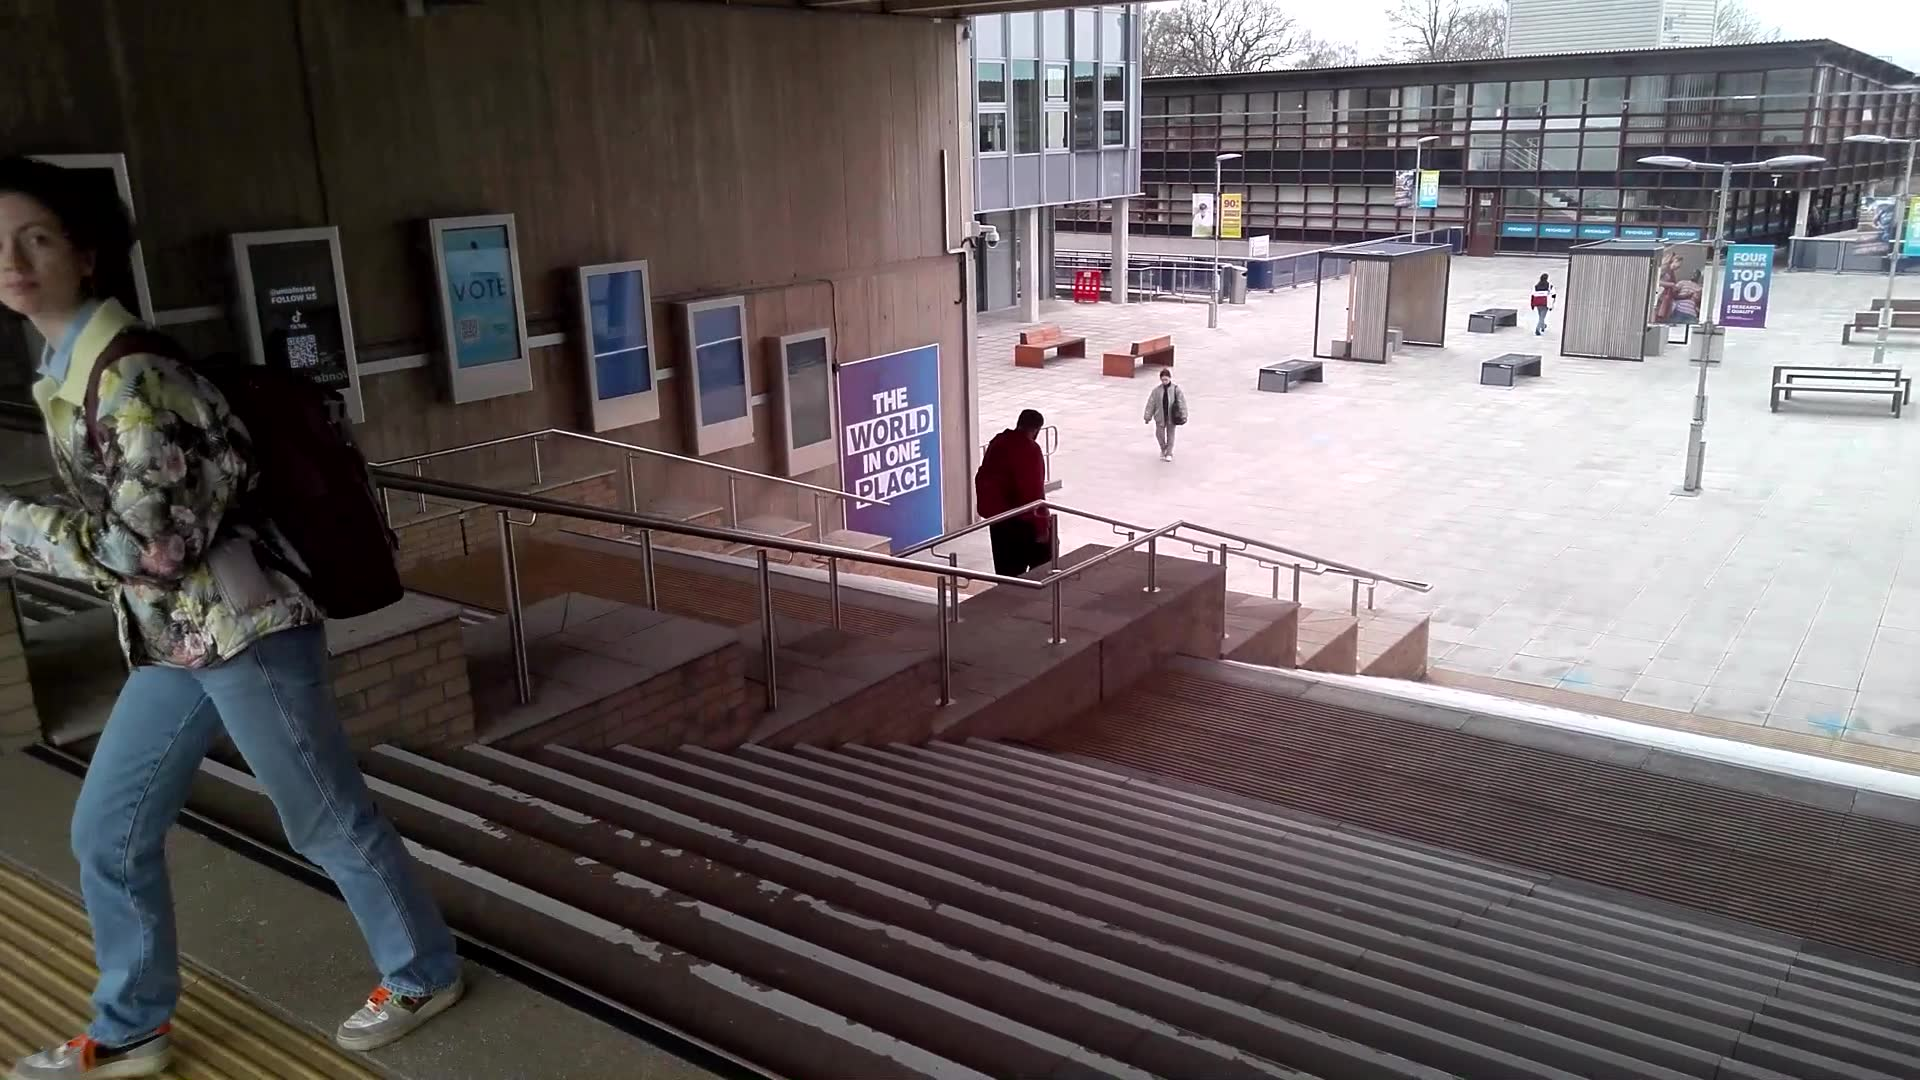Backpack: (194, 349, 413, 637), (972, 453, 1028, 527)
Bench: (1769, 363, 1920, 426), (1252, 355, 1336, 403), (1014, 319, 1094, 366), (1485, 349, 1558, 399), (1098, 335, 1182, 375), (1468, 307, 1517, 327)
Person: (6, 151, 350, 1058), (1000, 405, 1066, 571), (1144, 373, 1194, 466), (1532, 274, 1557, 337)
Stairs: (33, 711, 1920, 1080)
